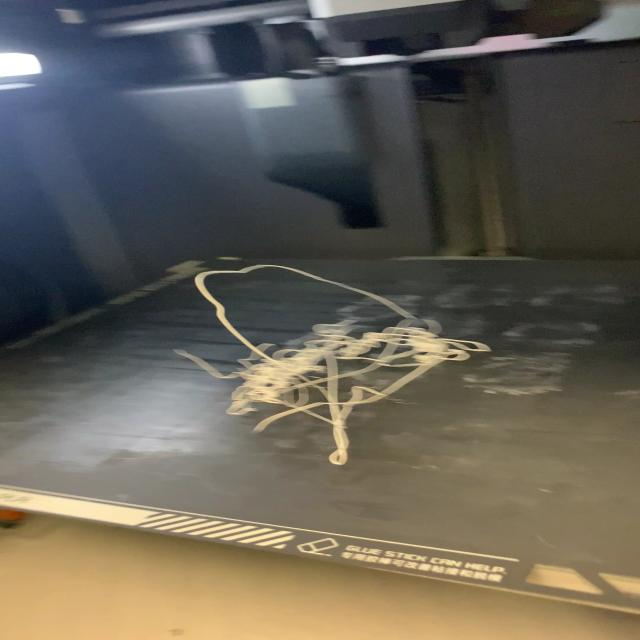spaghetti: (4, 257, 636, 617), (170, 262, 494, 467)
